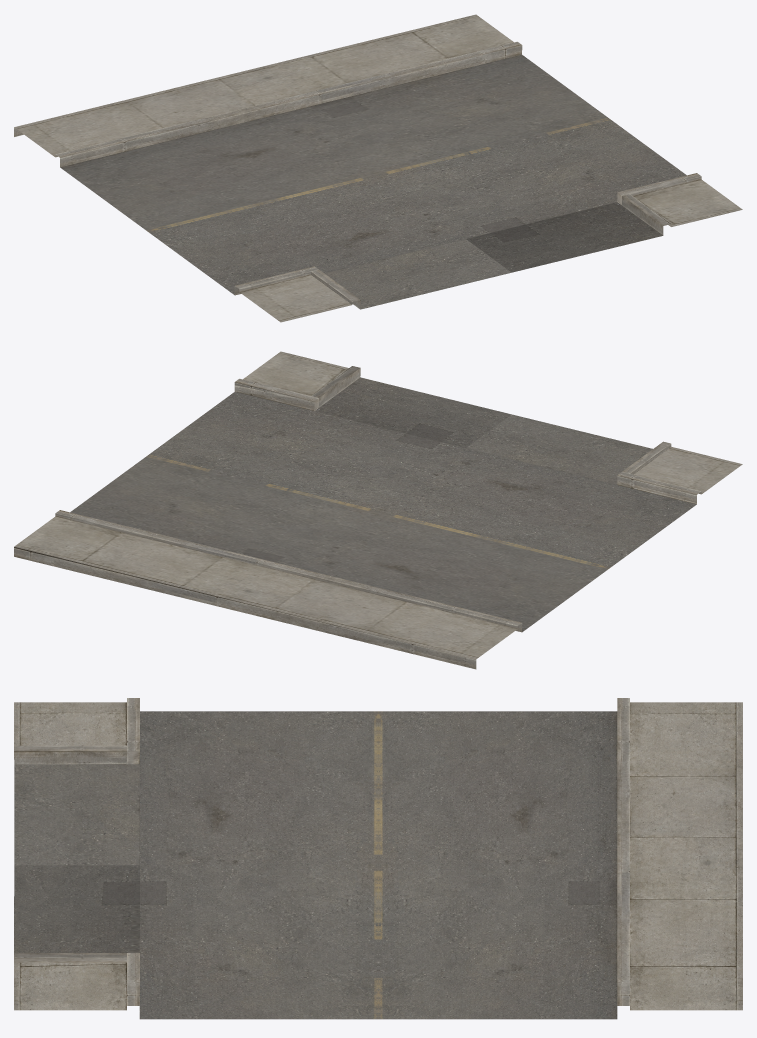
The model's file is road_t_junction_unlit.glb.
3 renders of one model, top to bottom at view 1: azimuth 30°, elevation 25°; view 2: azimuth 150°, elevation 25°; view 3: azimuth 270°, elevation 25°, orthographic. The views are drawn at different scales.
Parts seen in each view (by area): view 1: t-cross; view 2: t-cross; view 3: t-cross.
Part boxes in pixels (box(x1,y1,x2,y2)): t-cross: box(14, 14, 742, 322); t-cross: box(14, 351, 742, 669); t-cross: box(14, 698, 742, 1019).
Size of the model in its own units: 10 by 0.2709 by 10.
Materials: 1 (1 with a texture image).
